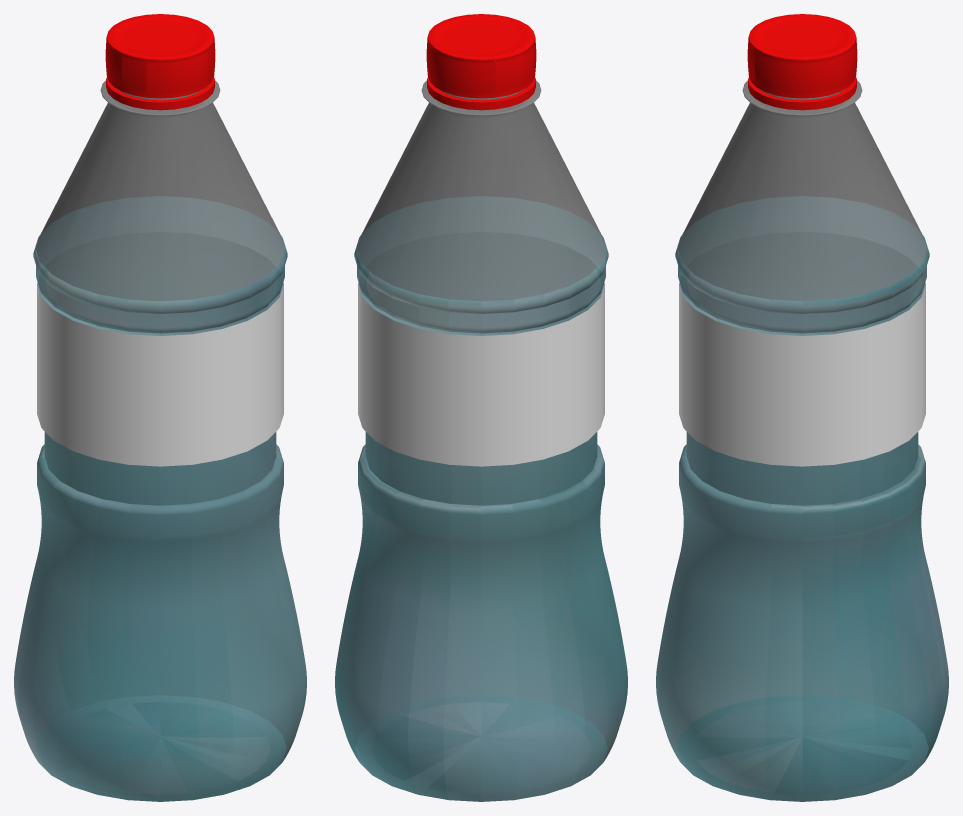
3 renders of one model, left to right at view 1: azimuth 30°, elevation 25°; view 2: azimuth 150°, elevation 25°; view 3: azimuth 270°, elevation 25°, orthographic.
Visible parts, largest first — view 1: SketchUp (×12); view 2: SketchUp (×12); view 3: SketchUp (×12).
Boxes of the visible parts, x1=… form: SketchUp (×12): x1=14, y1=14, x2=306, y2=801; SketchUp (×12): x1=335, y1=14, x2=627, y2=801; SketchUp (×12): x1=656, y1=14, x2=948, y2=801.
Bounding box in the file's own units: 42.87 × 42.87 × 115.
5 materials, 1 textured.
